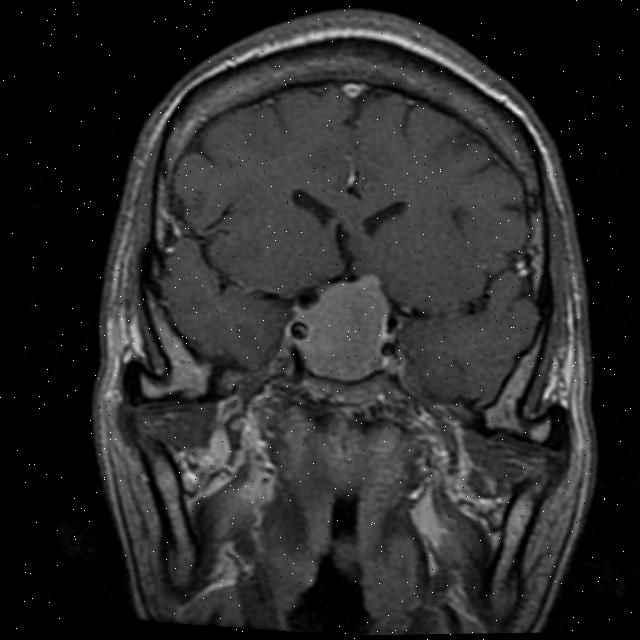Pituitary: (293, 267, 397, 385)
